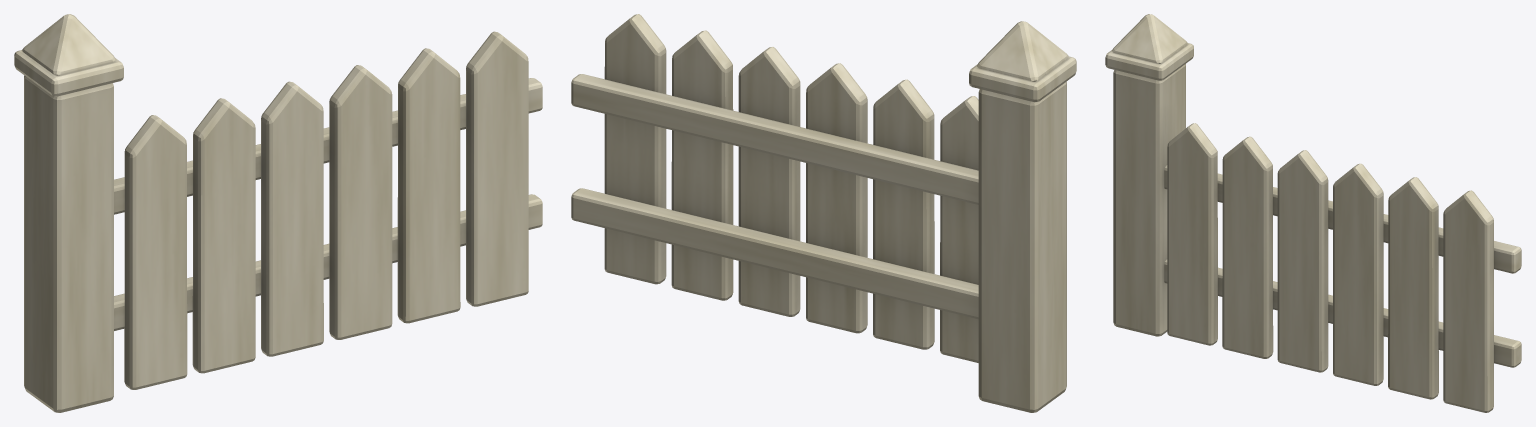
Rendered from white_picket.glb.
3 views of the same model, side by side, from view 1: azimuth 30°, elevation 25°; view 2: azimuth 150°, elevation 25°; view 3: azimuth 330°, elevation 25° (orthographic). The views are drawn at different scales.
Visible parts, largest first — view 1: white_picket; view 2: white_picket; view 3: white_picket.
Part boxes in pixels (x1=…): white_picket: x1=14, y1=14, x2=542, y2=412; white_picket: x1=571, y1=14, x2=1076, y2=412; white_picket: x1=1105, y1=14, x2=1521, y2=412.
Bounding box in the file's own units: 1.66 × 1.21 × 0.245.
Materials: 1 (1 with a texture image).
